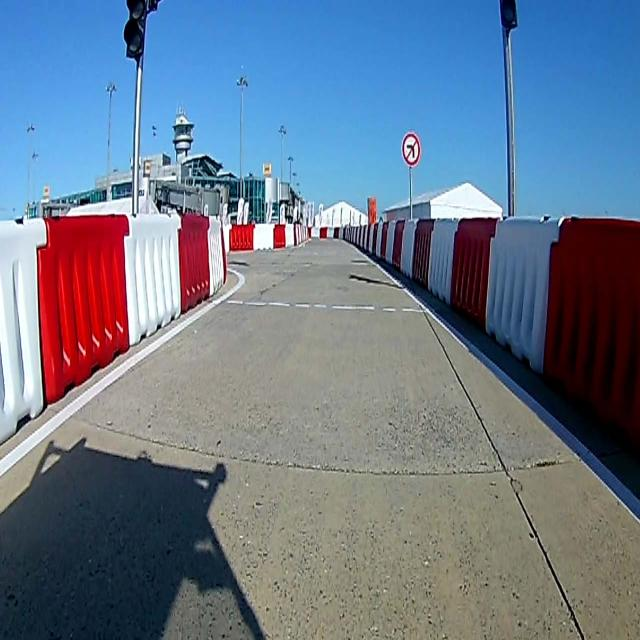soladonulmez: (402, 134, 421, 166)
